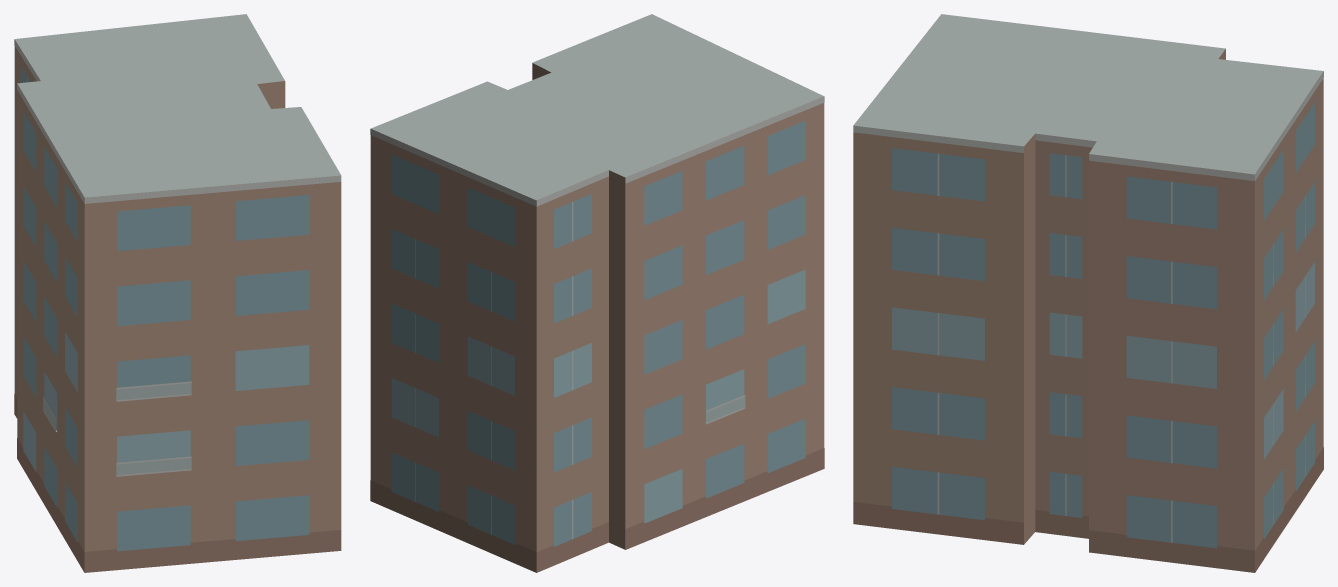
File: survey-upis-32876137.glb
The picture shows the model from 3 angles, left to right: view 1: azimuth 30°, elevation 25°; view 2: azimuth 150°, elevation 25°; view 3: azimuth 270°, elevation 25°; orthographic projection. The views are drawn at different scales.
Parts seen in each view (by area): view 1: survey-upis-32876137.tmp; view 2: survey-upis-32876137.tmp; view 3: survey-upis-32876137.tmp.
Part boxes in pixels (x1,y1,x2,y2): survey-upis-32876137.tmp: (14,14,341,572); survey-upis-32876137.tmp: (370,14,824,572); survey-upis-32876137.tmp: (853,14,1323,572).
Bounding box in the file's own units: 12.53 × 14.5 × 15.53.
